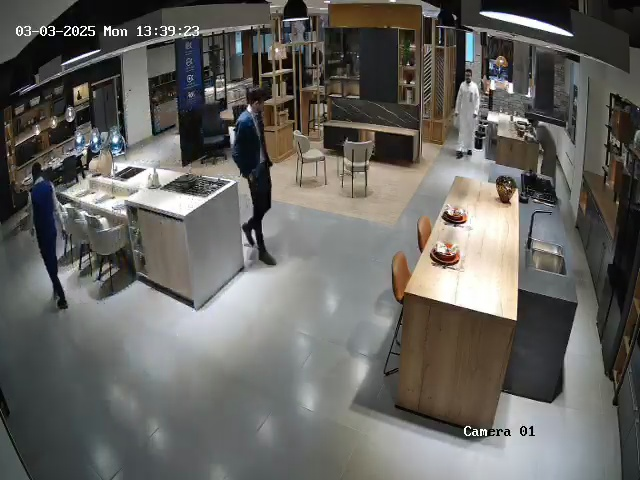employee: (231, 87, 277, 266), (30, 163, 69, 310)
male: (454, 68, 481, 159)
